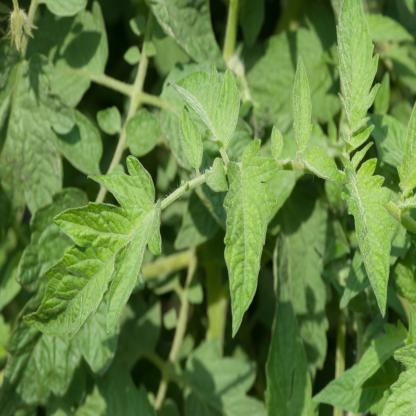tomato leaf: (33, 170, 191, 342), (333, 142, 408, 329), (224, 132, 286, 344), (166, 49, 245, 170)
